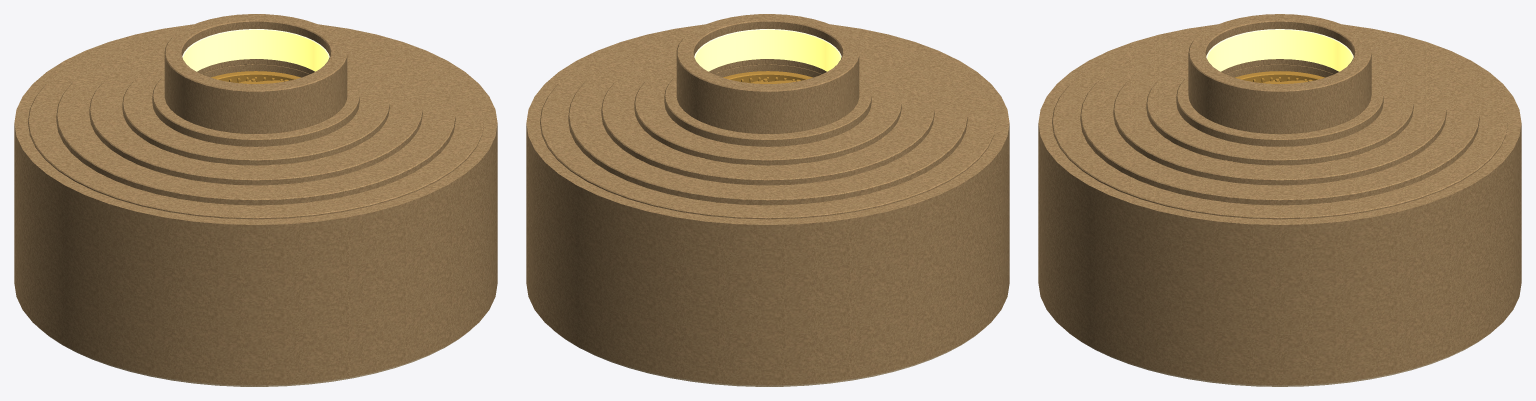
The model's file is cairo_solar_hall.glb.
The picture shows the model from 3 angles, left to right: view 1: azimuth 30°, elevation 25°; view 2: azimuth 150°, elevation 25°; view 3: azimuth 270°, elevation 25°; orthographic projection.
Visible parts, largest first — view 1: Cairo_Limestone_Amphitheater, Cairo_Solar_CoveWash, Cairo_Floor_Travertine, Solar_Oculus_OuterRing; view 2: Cairo_Limestone_Amphitheater, Cairo_Solar_CoveWash, Cairo_Floor_Travertine, Solar_Oculus_OuterRing; view 3: Cairo_Limestone_Amphitheater, Cairo_Solar_CoveWash, Cairo_Floor_Travertine, Solar_Oculus_OuterRing.
Boxes of the visible parts, x1,y1,x2,y2 form: Cairo_Limestone_Amphitheater: (14, 14, 497, 385); Cairo_Solar_CoveWash: (182, 29, 329, 71); Cairo_Floor_Travertine: (38, 327, 470, 386); Solar_Oculus_OuterRing: (211, 71, 300, 82); Cairo_Limestone_Amphitheater: (526, 14, 1009, 385); Cairo_Solar_CoveWash: (694, 29, 841, 71); Cairo_Floor_Travertine: (553, 327, 985, 386); Solar_Oculus_OuterRing: (723, 71, 812, 82); Cairo_Limestone_Amphitheater: (1038, 14, 1521, 385); Cairo_Solar_CoveWash: (1206, 29, 1353, 71); Cairo_Floor_Travertine: (1069, 333, 1490, 386); Solar_Oculus_OuterRing: (1235, 71, 1324, 82).
Bounding box in the file's own units: 16.1 × 8.6 × 16.1.
Materials: 5 (3 with a texture image).
